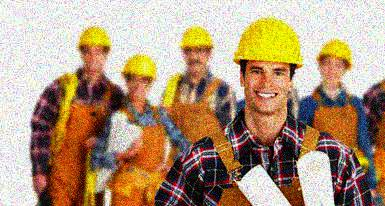helmet: (232, 19, 304, 113), (75, 25, 113, 73), (119, 52, 158, 98), (314, 38, 352, 85), (178, 24, 213, 72)
